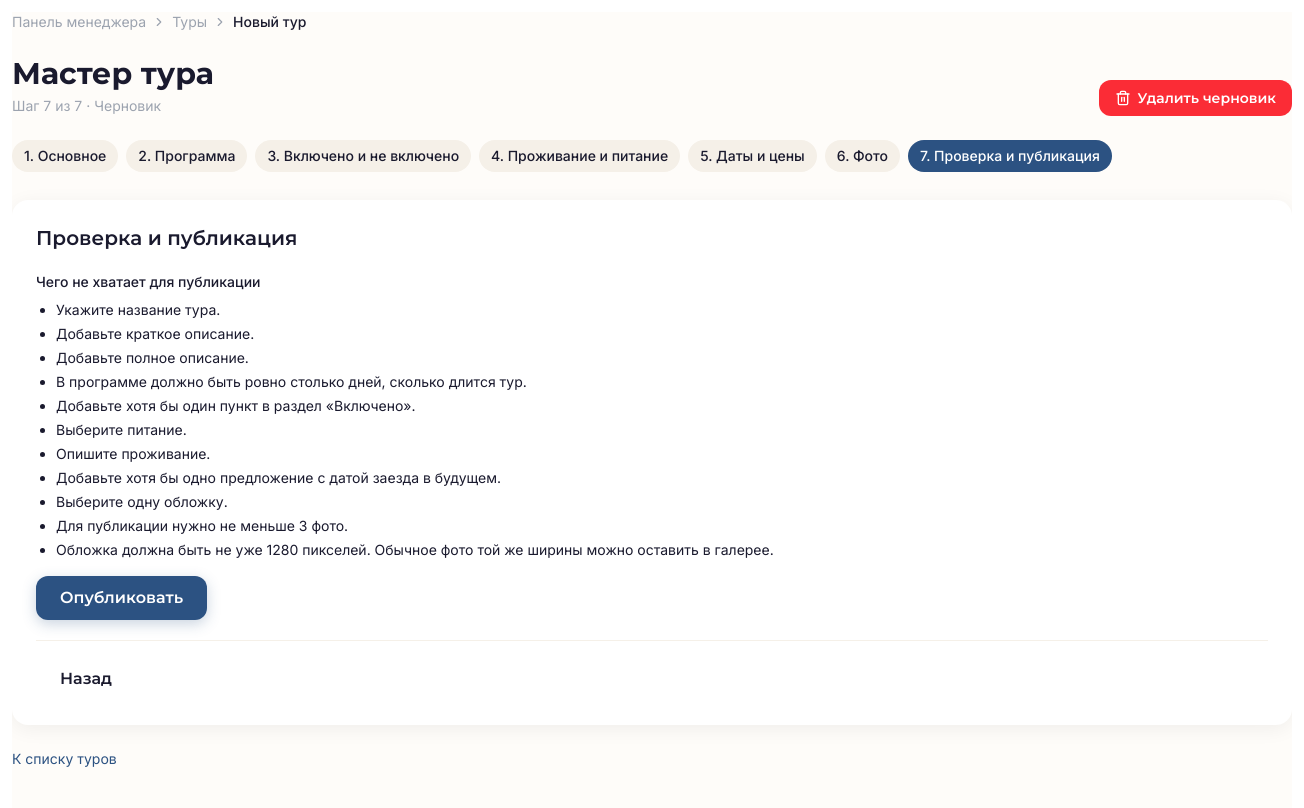
Test: TourWizard › shows the publish checklist and the server 422 codes
Expected: the list named "Чего не хватает для публикации" shows "не меньше 3 фото", [56,517,348,534]
Expected: the list named "Чего не хватает для публикации" shows "1280", [56,541,774,558]
Click the button "Опубликовать" at [122, 598], box [36,576,207,620]
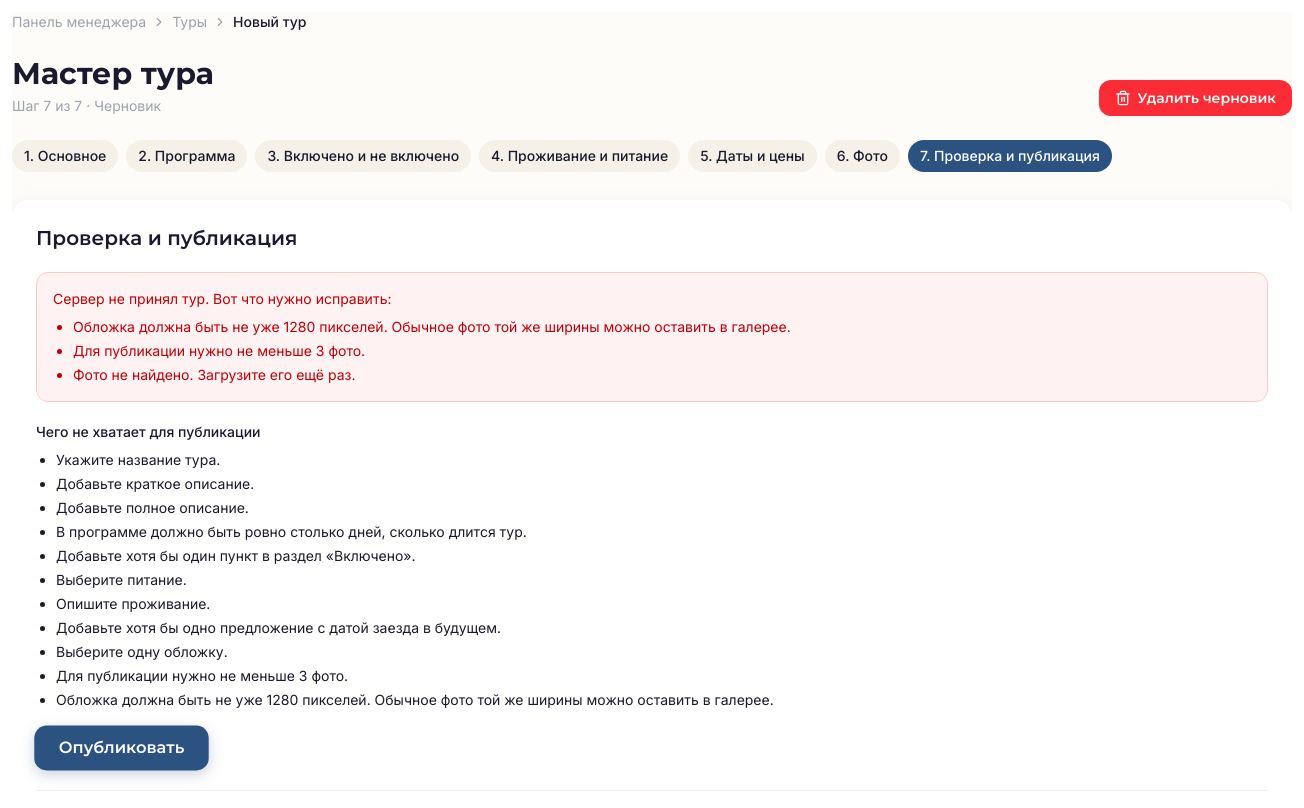
Expected: the message shows "1280", [73,318,791,335]
Expected: the message shows "не меньше 3 фото", [73,342,365,359]
Expected: the message shows "не найдено", [73,366,356,383]
